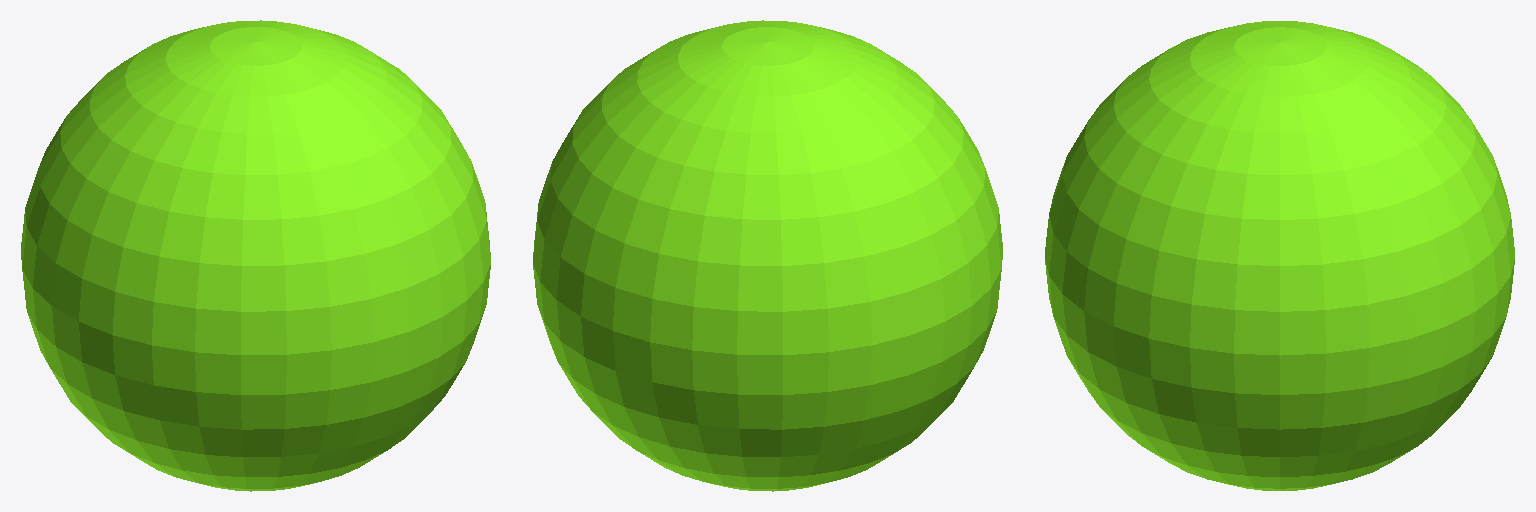
The robot description file, URDF, robot "object_robot":
<?xml version="1.0"?>
<robot name="object_robot">
     <material name="Green">
                <color rgba ="0.6 1.0 0.2 1.0"/>
            </material>
    <link name="world" />
    <link name="object">
        <inertial>
            <mass value="0.26" />
            <origin xyz="0.0 0 0.0" rpy="0 0 0"/>
            <inertia ixx="0.00026" ixy="0" ixz="0" iyy="0.00026" iyz="0" izz="0.00026" />
        </inertial>
        <visual>
            <origin xyz="0 0 0" rpy="0 0 0" />
            <geometry>
                <sphere radius="0.05" />
            </geometry>
            <material name="Green" />
        </visual>
    </link>
    <joint name="ground_joint" type="fixed">
        <origin xyz="0 0 0" rpy="0 0 0" />
        <parent link="world" />
        <child link="object" />
    </joint>


</robot>

--- Render facts (derived) ---
Views: 3 orthographic renders of the robot side by side, from view 1: azimuth 30°, elevation 25°; view 2: azimuth 150°, elevation 25°; view 3: azimuth 270°, elevation 25°.
Robot: object_robot — 2 links, 1 joints (1 fixed); root link world; default pose: every joint at zero.
Links seen in each view (by area): view 1: object; view 2: object; view 3: object.
Link boxes in pixels (<box>): object: <box>21,20,490,491</box>; object: <box>533,20,1002,491</box>; object: <box>1045,21,1514,490</box>.
Size in the robot's own frame: 0.1 by 0.1 by 0.1 metres.
Geometry: primitives only (box / cylinder / sphere), no mesh files.